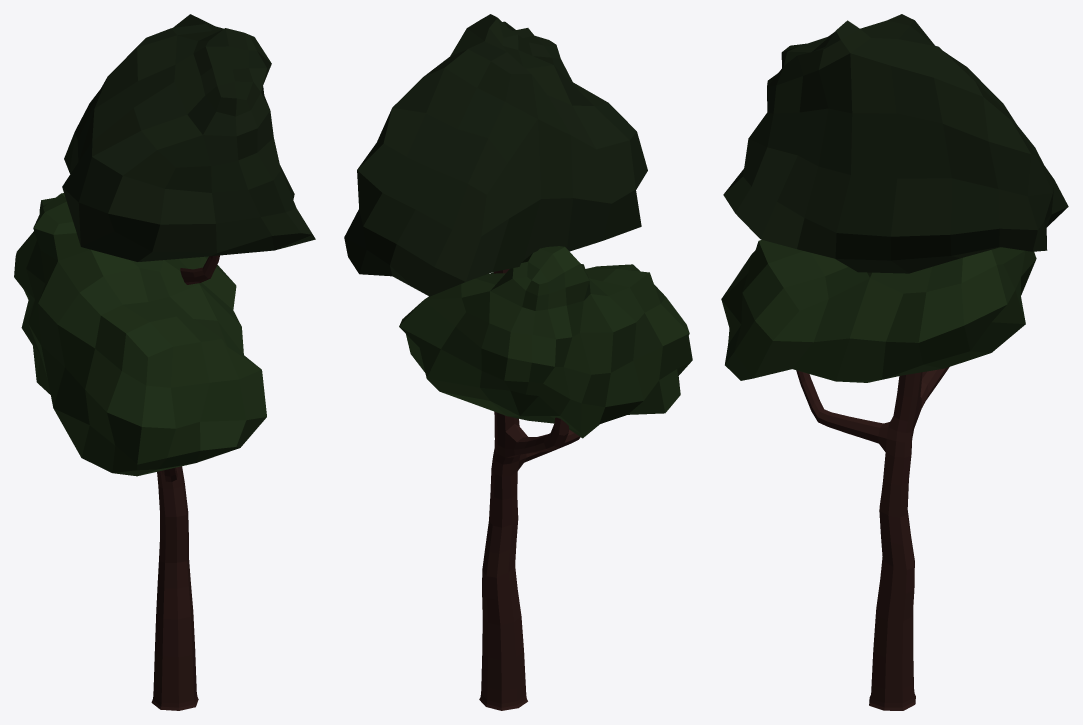
The model's file is commontree_3.glb.
3 renders of one model, left to right at view 1: azimuth 30°, elevation 25°; view 2: azimuth 150°, elevation 25°; view 3: azimuth 270°, elevation 25°, orthographic. The views are drawn at different scales.
Parts seen in each view (by area): view 1: CommonTree_3; view 2: CommonTree_3; view 3: CommonTree_3.
Part boxes in pixels (x1,y1,x2,y2): CommonTree_3: (14,14,315,710); CommonTree_3: (344,14,692,710); CommonTree_3: (721,14,1068,710).
Size of the model in its own units: 128 by 346 by 156.
